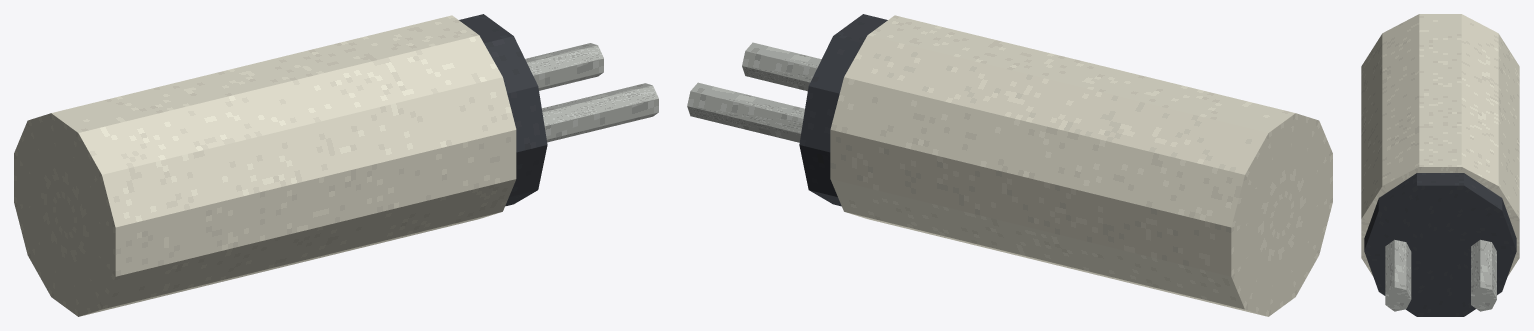
File: pilot_light.glb
3 renders of one model, left to right at view 1: azimuth 30°, elevation 25°; view 2: azimuth 150°, elevation 25°; view 3: azimuth 270°, elevation 25°, orthographic. The views are drawn at different scales.
Parts seen in each view (by area): view 1: block_component body, block_contact (×2), block_terminal collar; view 2: block_component body, block_contact (×2), block_terminal collar; view 3: block_component body, block_terminal collar, block_contact (×2).
Part boxes in pixels (bbox=[...]): block_component body: bbox=[14, 15, 516, 316]; block_contact (×2): bbox=[525, 43, 658, 142]; block_terminal collar: bbox=[459, 14, 547, 206]; block_component body: bbox=[830, 15, 1332, 316]; block_contact (×2): bbox=[687, 42, 821, 142]; block_terminal collar: bbox=[799, 14, 887, 206]; block_component body: bbox=[1361, 14, 1519, 276]; block_terminal collar: bbox=[1364, 173, 1516, 316]; block_contact (×2): bbox=[1385, 239, 1496, 311].
Size of the model in its own units: 0.0321 by 0.0101 by 0.0101.
Materials: 1 (1 with a texture image).
